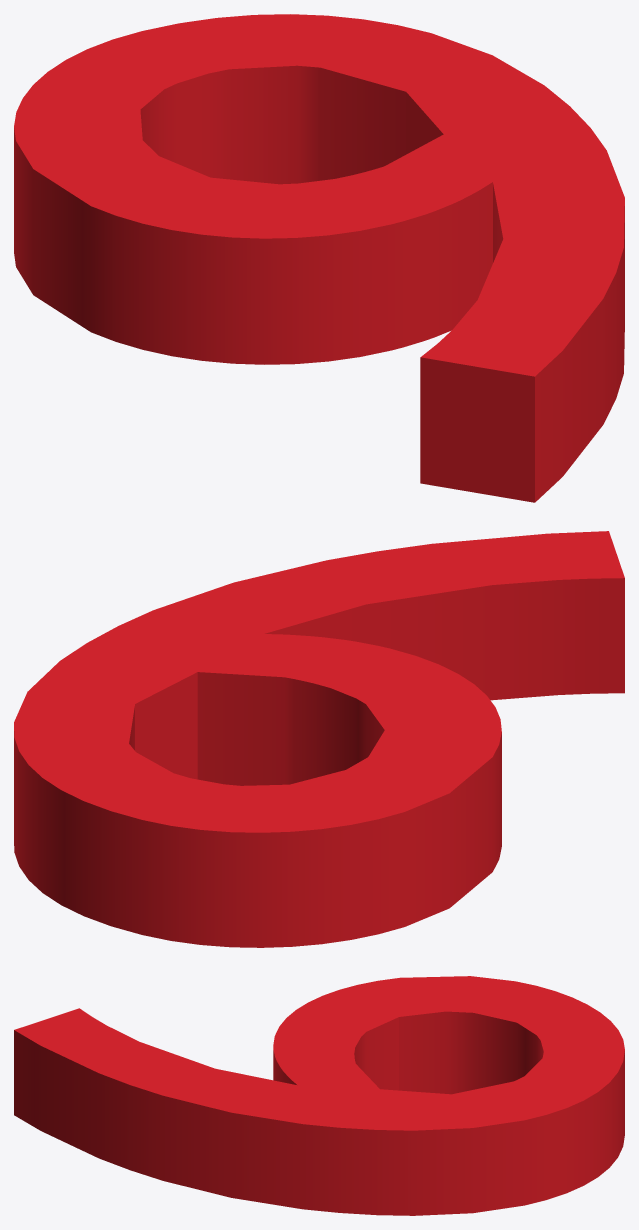
3 views of the same model, one above another, from view 1: azimuth 30°, elevation 25°; view 2: azimuth 150°, elevation 25°; view 3: azimuth 270°, elevation 25° (orthographic). The views are drawn at different scales.
Parts seen in each view (by area): view 1: Text; view 2: Text; view 3: Text.
Part boxes in pixels (x1=…): Text: x1=14, y1=14, x2=624, y2=502; Text: x1=14, y1=531, x2=624, y2=947; Text: x1=14, y1=976, x2=624, y2=1215.
Size of the model in its own units: 0.4191 by 0.7 by 0.1077.
